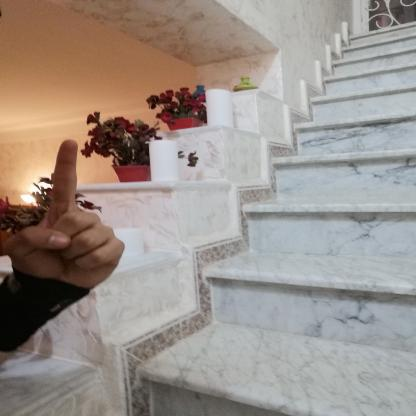BAA: (3, 132, 138, 298)
